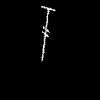treble_crochet: (42, 6, 54, 59)
